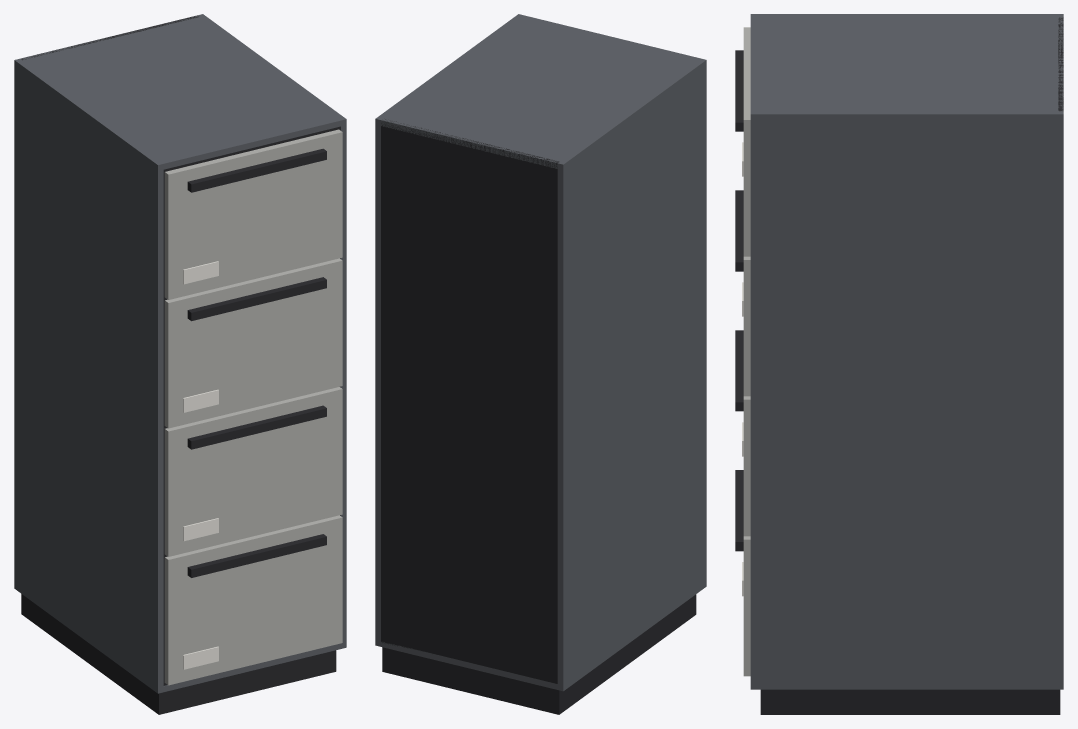
Rendered from FN_Cabinet_Filing.glb.
3 renders of one model, left to right at view 1: azimuth 30°, elevation 25°; view 2: azimuth 150°, elevation 25°; view 3: azimuth 270°, elevation 25°, orthographic. The views are drawn at different scales.
Parts seen in each view (by area): view 1: FN_Cabinet_Filing; view 2: FN_Cabinet_Filing; view 3: FN_Cabinet_Filing.
Boxes of the visible parts, <box> form: FN_Cabinet_Filing: <box>14,14,346,714</box>; FN_Cabinet_Filing: <box>375,14,706,714</box>; FN_Cabinet_Filing: <box>735,14,1063,714</box>.
Size of the model in its own units: 0.47 by 1.32 by 0.65.
Materials: 1 (1 with a texture image).
